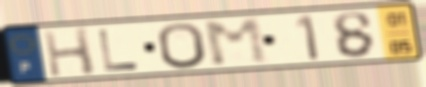1: (293, 13, 323, 62)
8: (329, 11, 378, 60)
H: (40, 26, 99, 79)
L: (96, 28, 141, 73)
M: (199, 16, 273, 69)
O: (155, 21, 210, 70)
